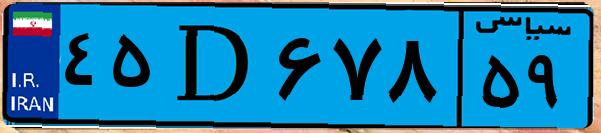4: (57, 26, 110, 100)
5: (475, 38, 525, 113), (110, 28, 158, 98)
6: (270, 28, 330, 110)
7: (330, 28, 385, 110)
8: (385, 28, 445, 110)
9: (525, 38, 570, 115)
D: (158, 12, 270, 120)
